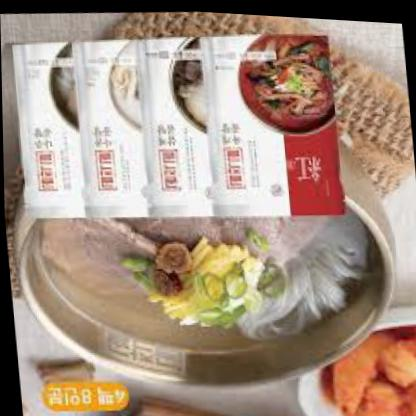beef-bone soup: (19, 168, 379, 385)
radish Kimchi: (324, 311, 415, 415)
